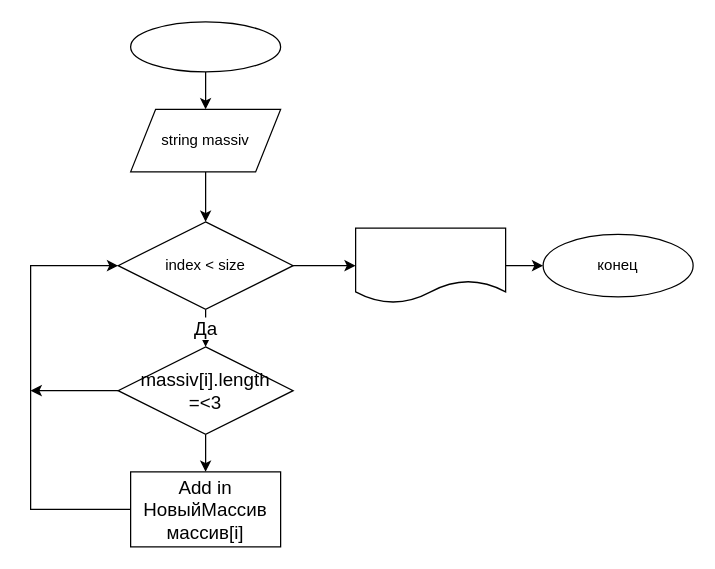
Image size: 715x569. Some labels were removed from this diagram. The centre of each missing label's shape, as x and y in pixels:
"Print НовыйМассив" belongs at point 430,265.
"Начало" belongs at point 205,46.
